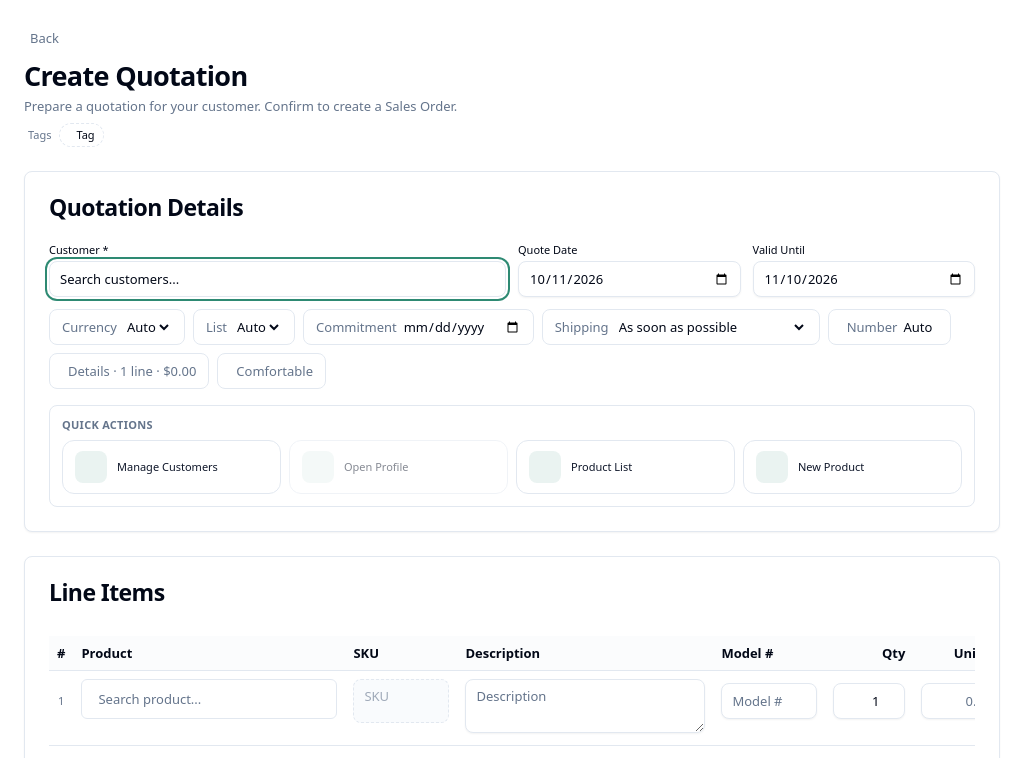
Test case: #316 quotation form — Case Information follows the field profile › create: hides Case information for a Trading tenant
This screenshot has width=1024, height=758.
Click the button titled "References, contacts, addresses, logistics and terms": point(129, 371) [49,353,209,389]
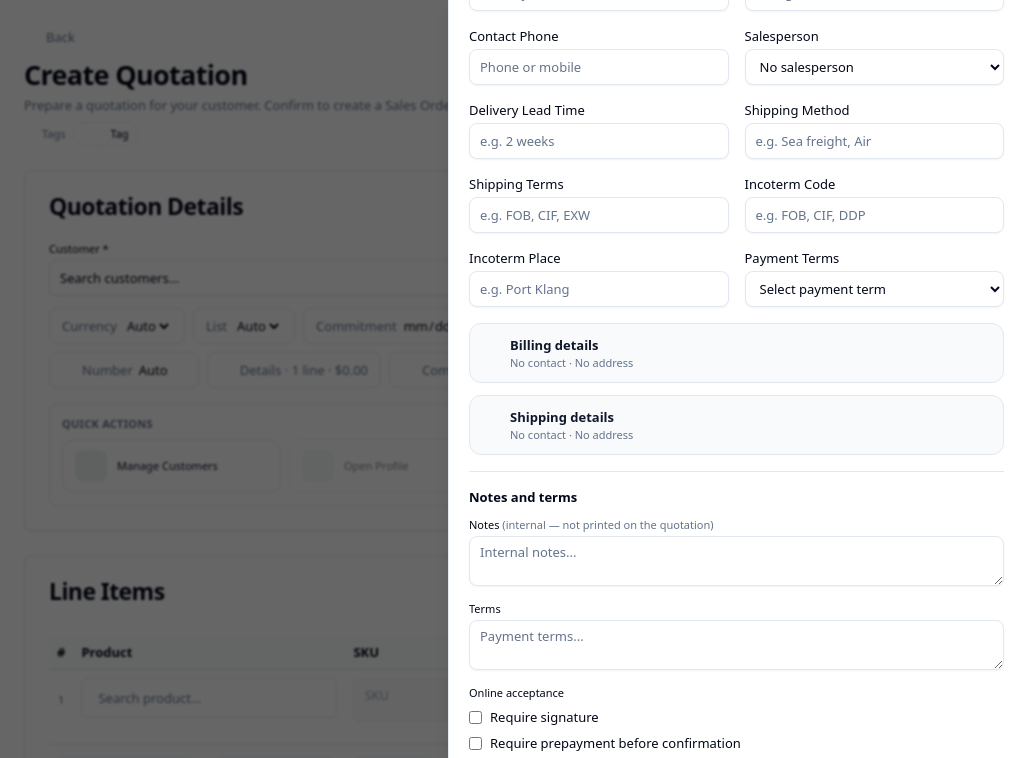
Result: the text box with placeholder "Internal notes..." is shown at [469,536,1004,586]
